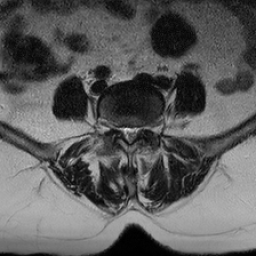CCS_normal: (126, 116, 133, 150)
LFS_stenosis: (140, 116, 147, 138)
LLS_normal: (133, 118, 140, 140)
RFS_severe_stenosis: (113, 116, 120, 138)
RLS_normal: (120, 118, 126, 141)
